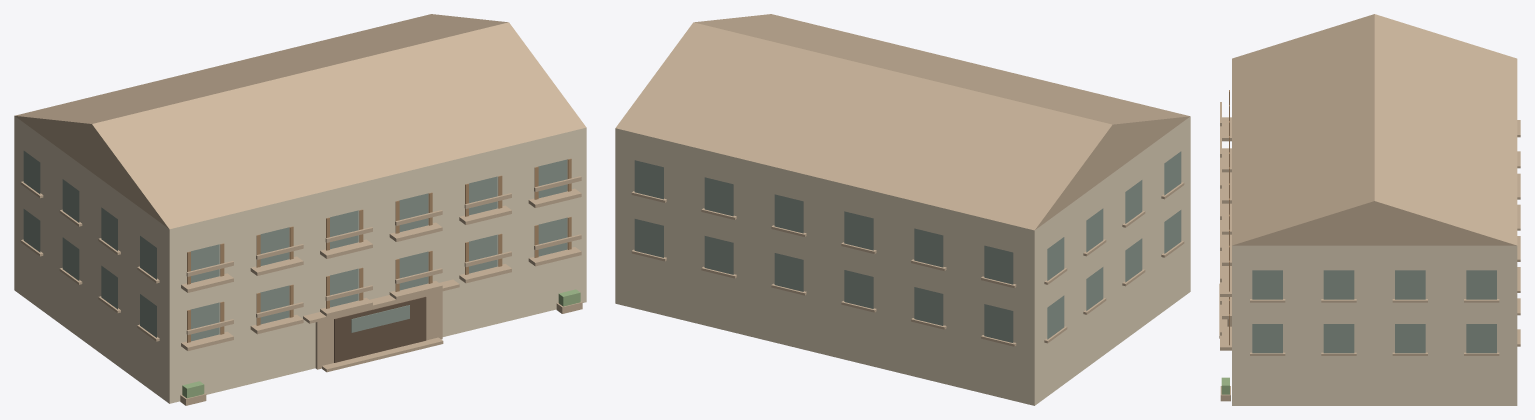
File: residential_3x2_a.glb
3 renders of one model, left to right at view 1: azimuth 30°, elevation 25°; view 2: azimuth 150°, elevation 25°; view 3: azimuth 270°, elevation 25°, orthographic. The views are drawn at different scales.
Visible parts, largest first — view 1: residential_3x2_a_0; view 2: residential_3x2_a_0; view 3: residential_3x2_a_0.
Boxes of the visible parts, <box> form: residential_3x2_a_0: <box>14,14,586,405</box>; residential_3x2_a_0: <box>615,14,1190,405</box>; residential_3x2_a_0: <box>1219,14,1520,405</box>.
Size of the model in its own units: 22.86 by 11.5 by 15.33.
